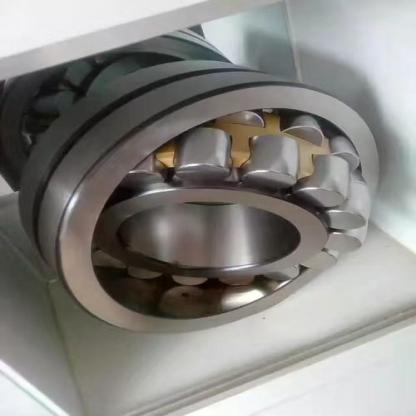FOD: (15, 57, 384, 338)
